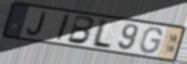9: (116, 23, 140, 52)
B: (65, 14, 96, 46)
G: (139, 27, 164, 56)
I: (54, 13, 72, 43)
J: (26, 11, 48, 37)
L: (89, 18, 113, 51)
